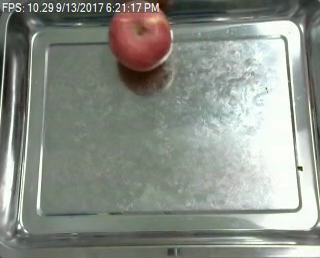Apple: (107, 0, 175, 80)
